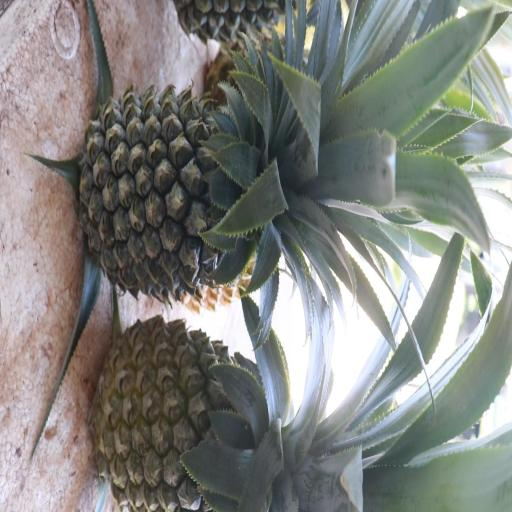------------------------------: (97, 317, 298, 509)
